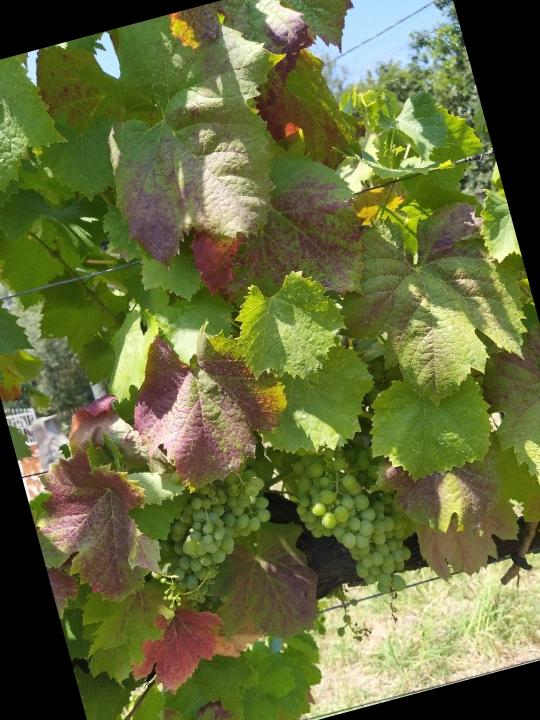grape: (272, 418, 448, 647), (149, 463, 294, 618)
